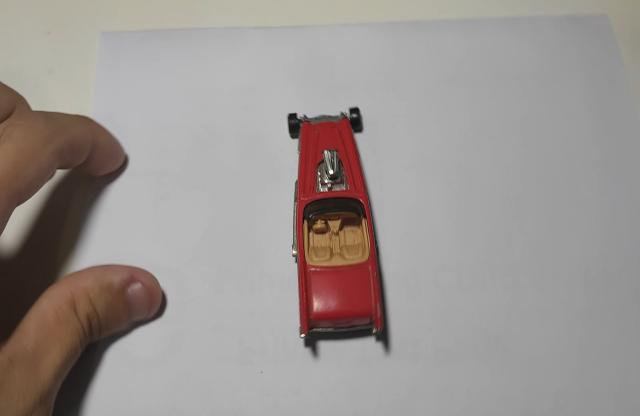03_V8: (287, 108, 386, 356)
